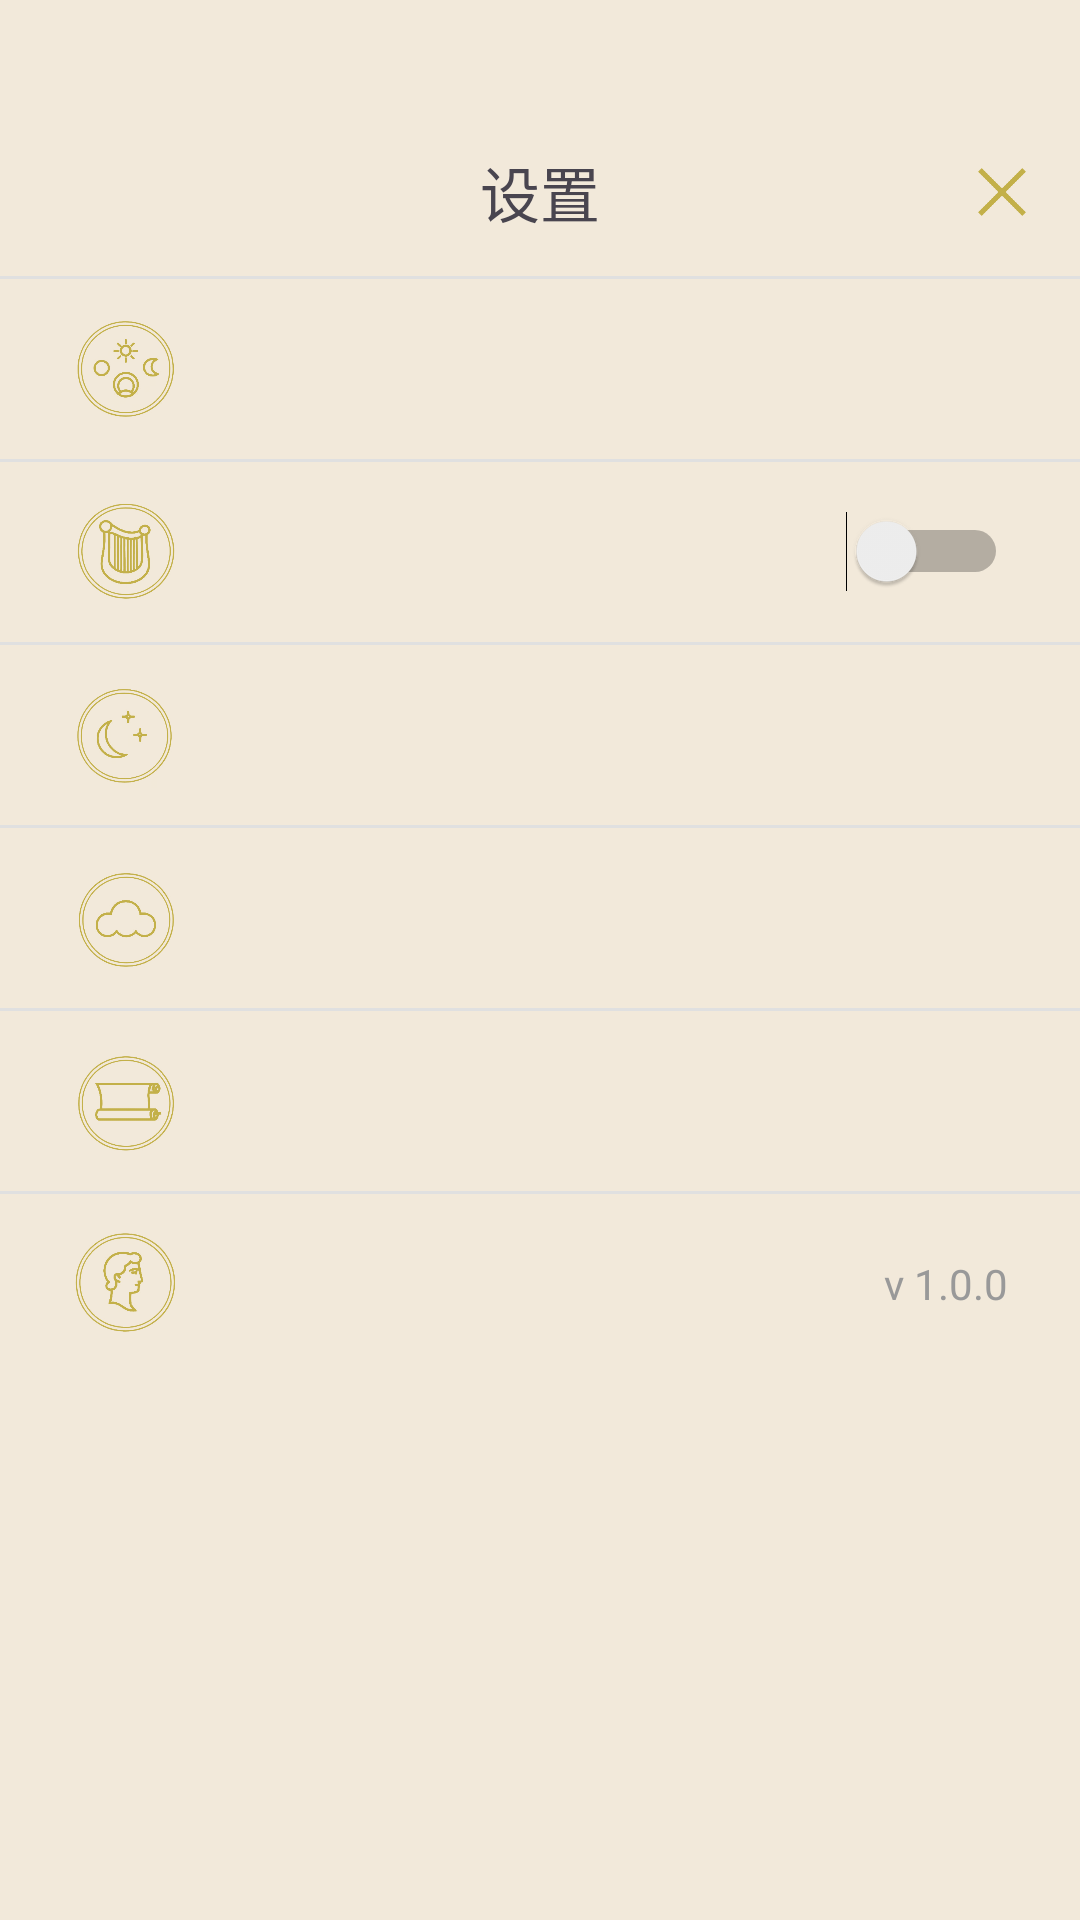

Icons on this 1080 × 1920 Android screen, each with the point to tap as (x=x, y=y):
book: (x=126, y=1103)
cloud: (x=126, y=920)
daynight: (x=125, y=369)
music: (x=126, y=551)
night: (x=124, y=736)
